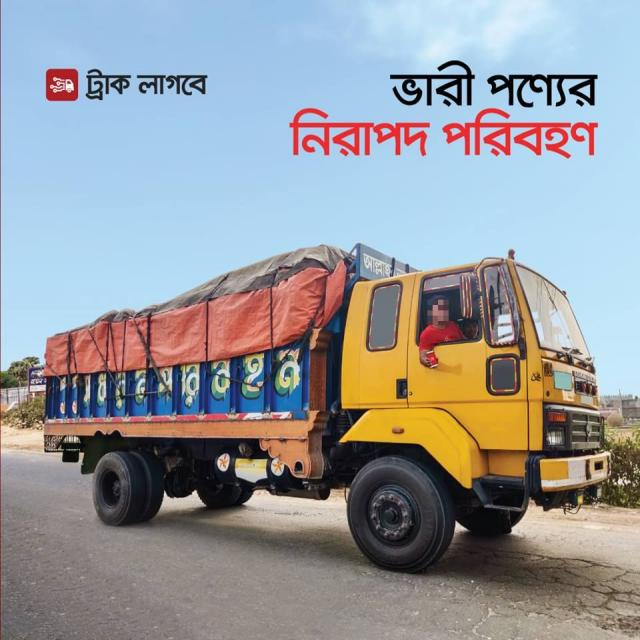truck: (31, 254, 606, 582)
